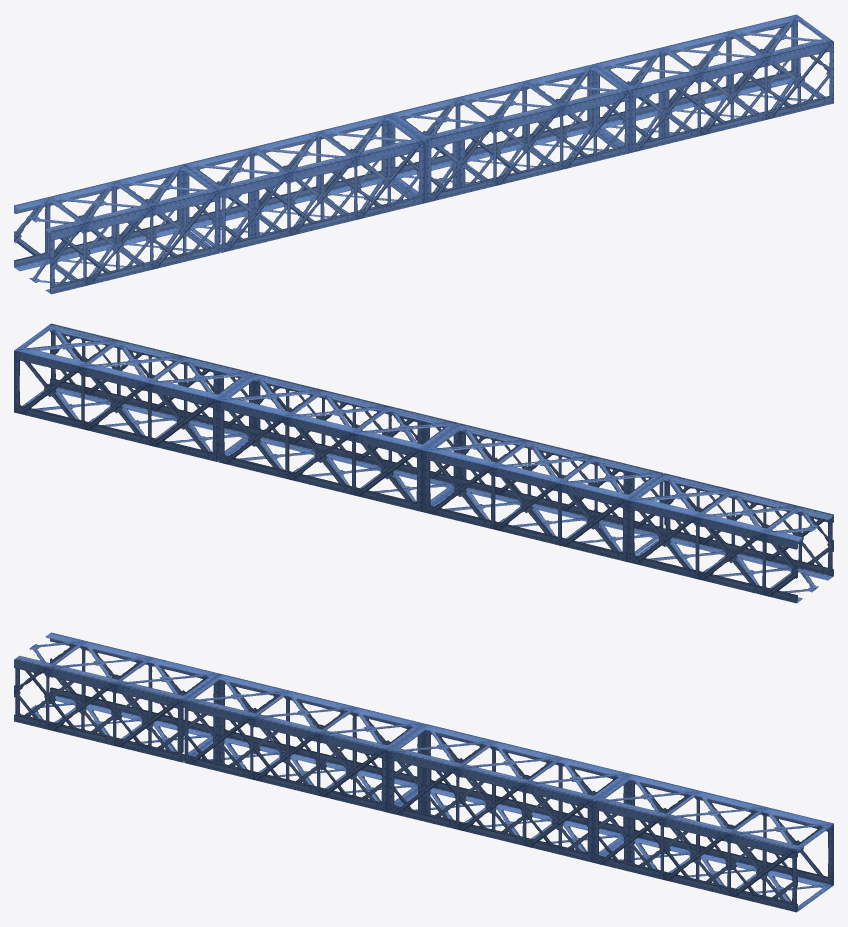
Rendered from roof_walkway.FBX.
The picture shows the model from 3 angles, top to bottom: view 1: azimuth 30°, elevation 25°; view 2: azimuth 150°, elevation 25°; view 3: azimuth 330°, elevation 25°; orthographic projection.
Parts seen in each view (by area): view 1: walkway; view 2: walkway; view 3: walkway.
Part boxes in pixels (left/top/right/bottom): walkway: left=14, top=14, right=833, bottom=294; walkway: left=14, top=323, right=833, bottom=603; walkway: left=14, top=632, right=833, bottom=912.
Size of the model in its own units: 327 by 24.65 by 26.85.
Materials: 1 (1 with a texture image).
